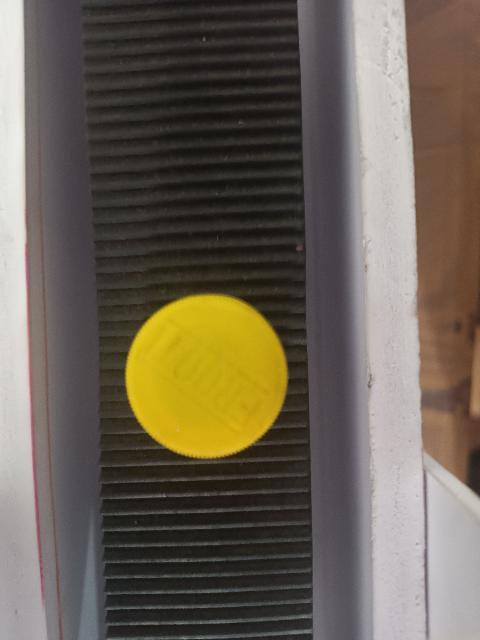bottlecap: (122, 290, 289, 460)
